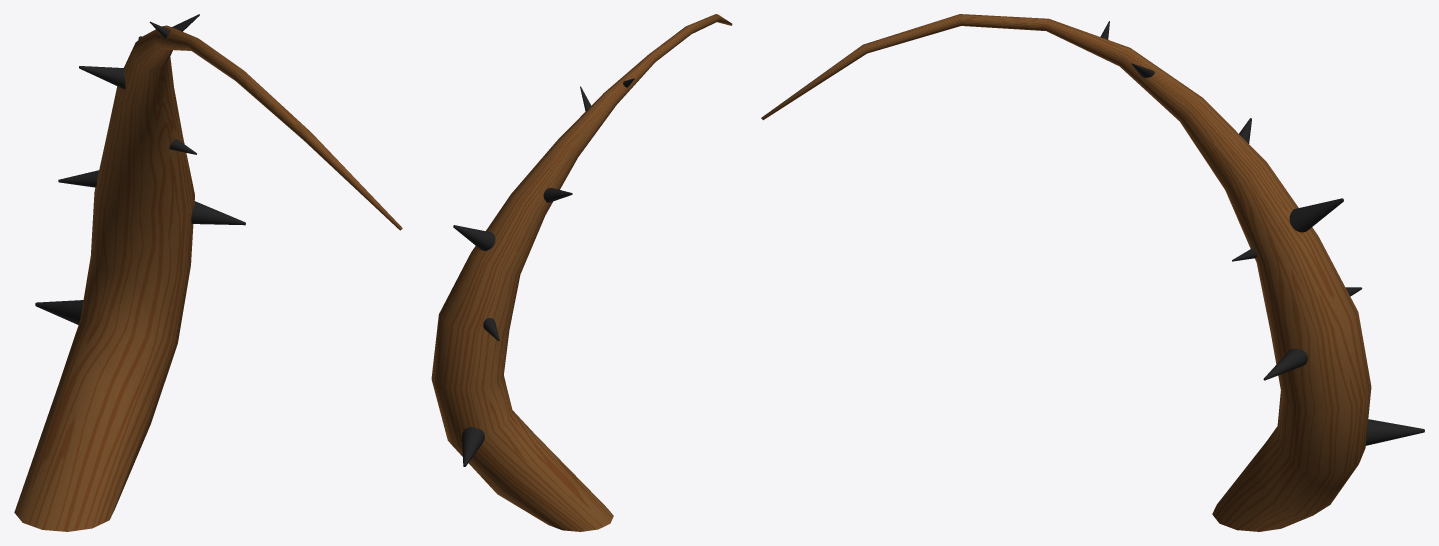
File: Spike_2.fbx
3 views of the same model, side by side, from view 1: azimuth 30°, elevation 25°; view 2: azimuth 150°, elevation 25°; view 3: azimuth 270°, elevation 25° (orthographic). The views are drawn at different scales.
Parts seen in each view (by area): view 1: Spikes_2; view 2: Spikes_2; view 3: Spikes_2.
Boxes of the visible parts, bbox=[...] form: Spikes_2: bbox=[14, 14, 402, 531]; Spikes_2: bbox=[431, 14, 732, 531]; Spikes_2: bbox=[761, 14, 1424, 531].
Bounding box in the file's own units: 42.13 × 97.96 × 117.
